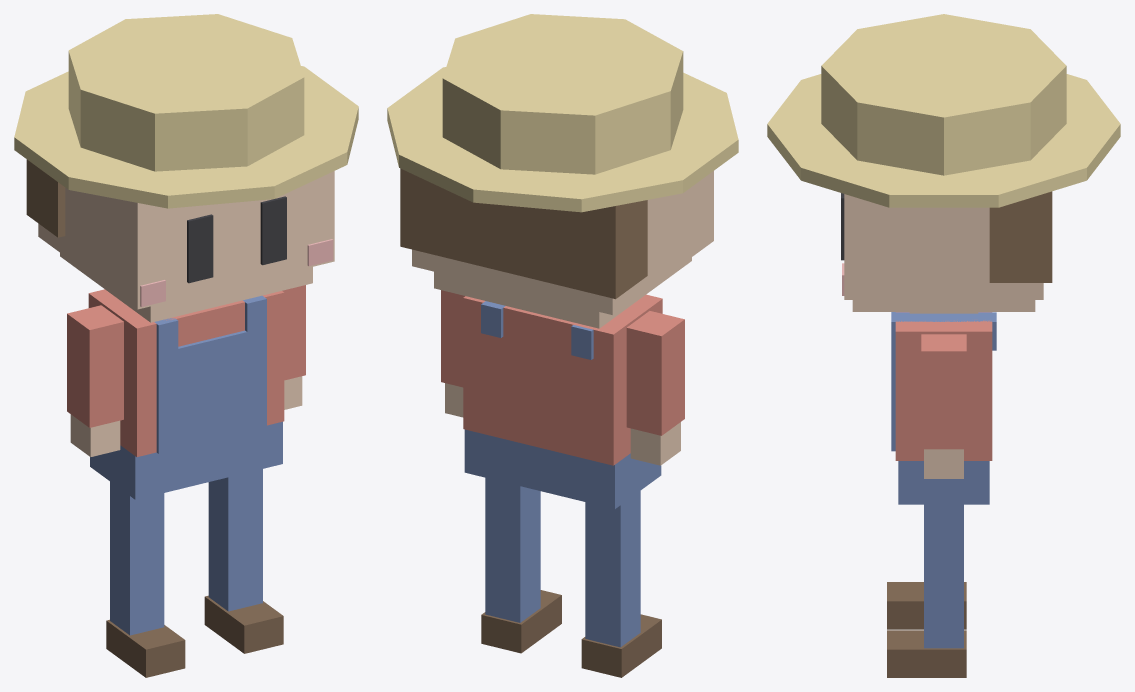
Rendered from farmer.glb.
The picture shows the model from 3 angles, left to right: view 1: azimuth 30°, elevation 25°; view 2: azimuth 150°, elevation 25°; view 3: azimuth 270°, elevation 25°; orthographic projection.
Parts seen in each view (by area): view 1: farmer; view 2: farmer; view 3: farmer.
Boxes of the visible parts, x1=… form: farmer: x1=14, y1=14, x2=358, y2=677; farmer: x1=387, y1=14, x2=738, y2=677; farmer: x1=767, y1=14, x2=1120, y2=677.
Bounding box in the file's own units: 0.8019 × 1.52 × 0.8432.
